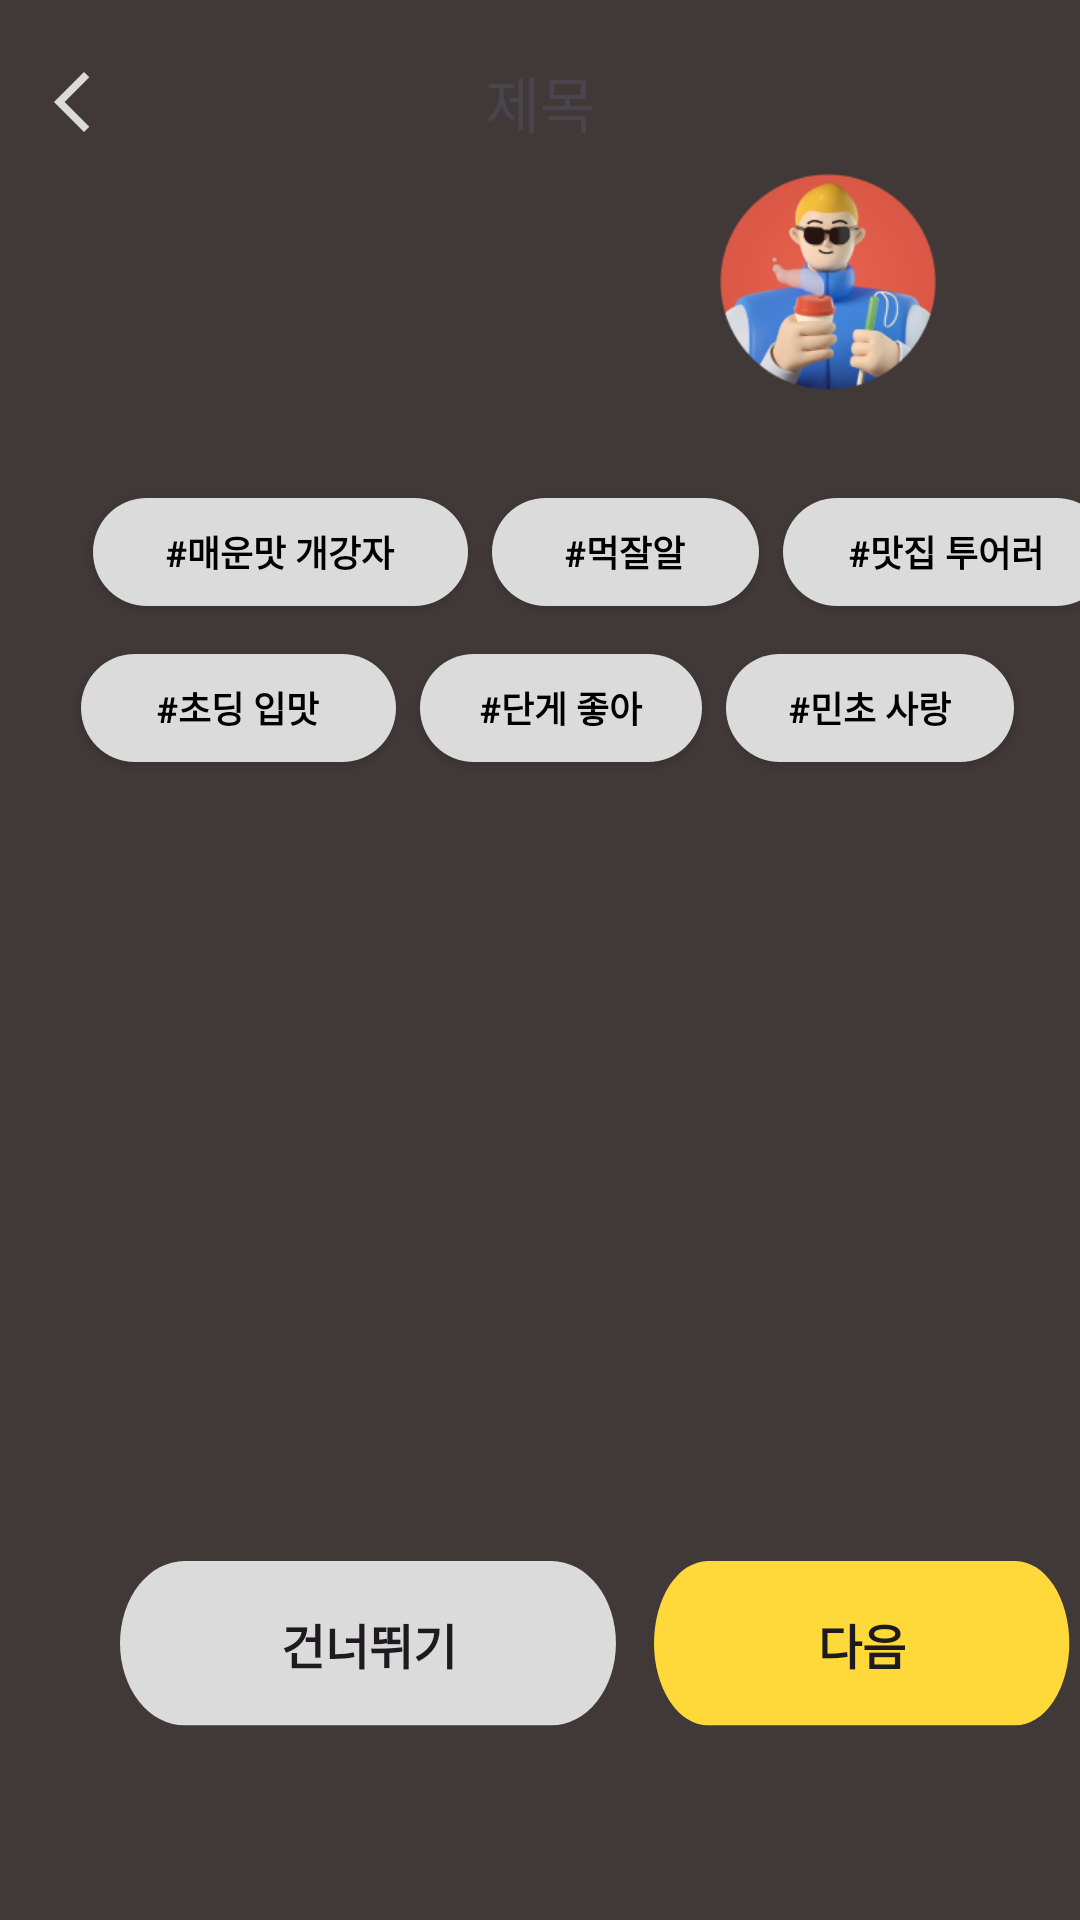

Icons on this 1080 x 1920 Android screen, each with its box as [x1=x1, y1=y1, x2=x2, y2=y2]:
arrow back: [x1=54, y1=72, x2=89, y2=132]
user: [x1=720, y1=174, x2=936, y2=389]
